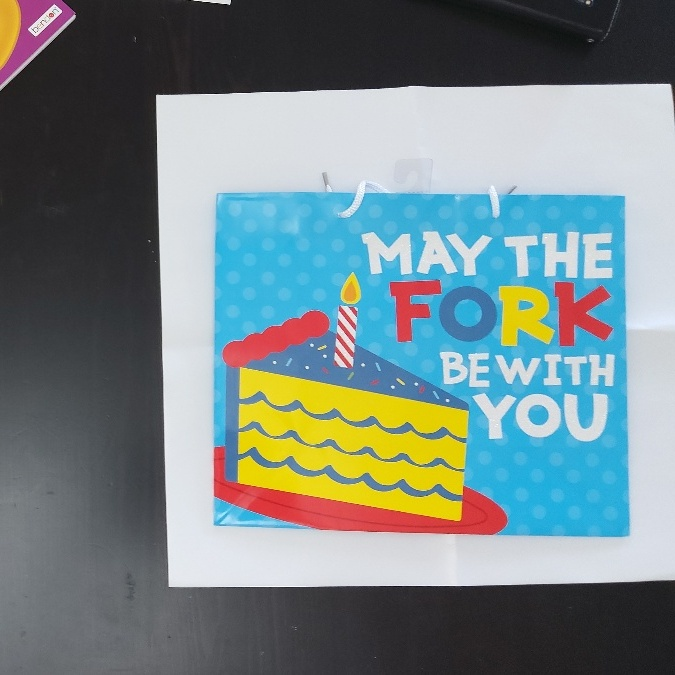paper_bag: (225, 198, 623, 530)
